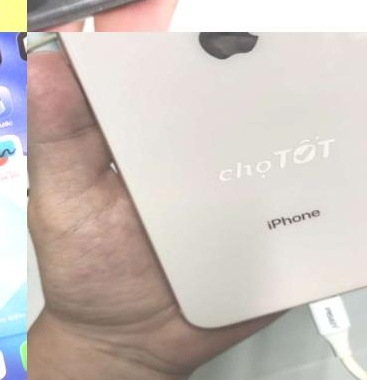scratch: (27, 0, 238, 27)
